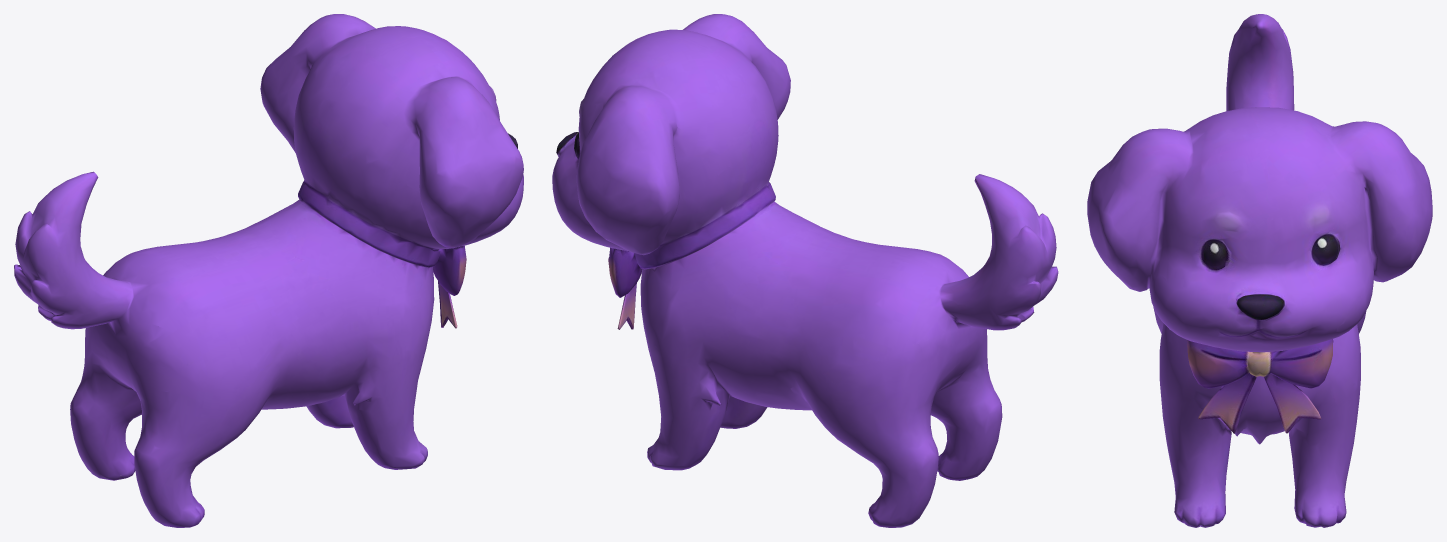
The model's file is anniv.glb.
3 renders of one model, left to right at view 1: azimuth 30°, elevation 25°; view 2: azimuth 150°, elevation 25°; view 3: azimuth 270°, elevation 25°, orthographic. The views are drawn at different scales.
Parts seen in each view (by area): view 1: tripo_node_0fa51118-b679-4074-952e-f12ef4056fc5; view 2: tripo_node_0fa51118-b679-4074-952e-f12ef4056fc5; view 3: tripo_node_0fa51118-b679-4074-952e-f12ef4056fc5.
Boxes of the visible parts, left/top/right/bottom form: tripo_node_0fa51118-b679-4074-952e-f12ef4056fc5: left=14, top=14, right=523, bottom=527; tripo_node_0fa51118-b679-4074-952e-f12ef4056fc5: left=552, top=14, right=1058, bottom=527; tripo_node_0fa51118-b679-4074-952e-f12ef4056fc5: left=1087, top=14, right=1432, bottom=527.
Bounding box in the file's own units: 1 × 0.7737 × 0.5814.
1 material, 1 textured.
